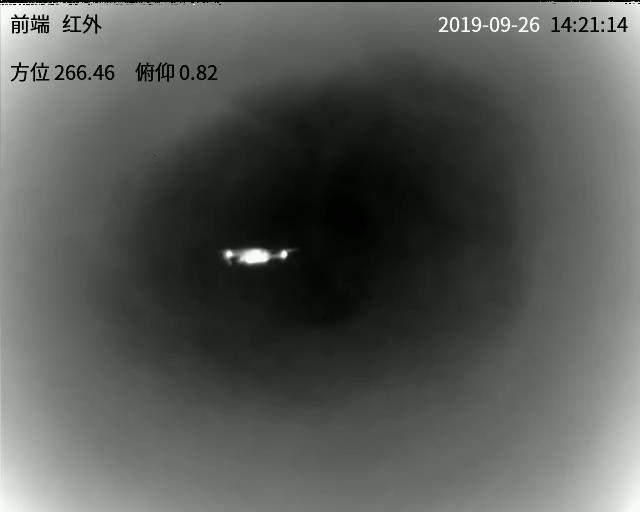uav: (219, 245, 296, 267)
